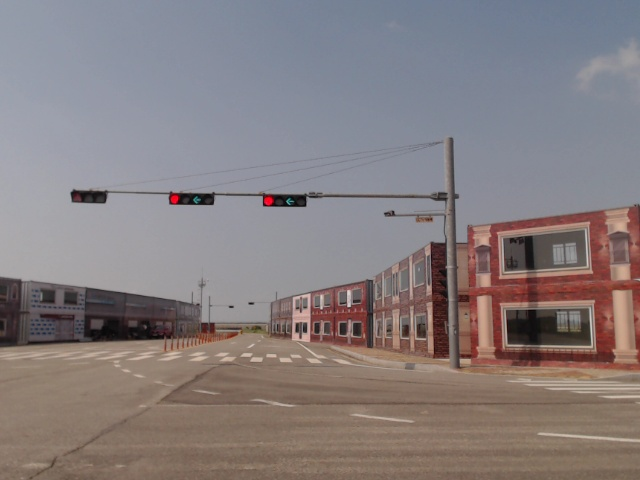left_green_4: (263, 195, 306, 207), (170, 194, 214, 204)
